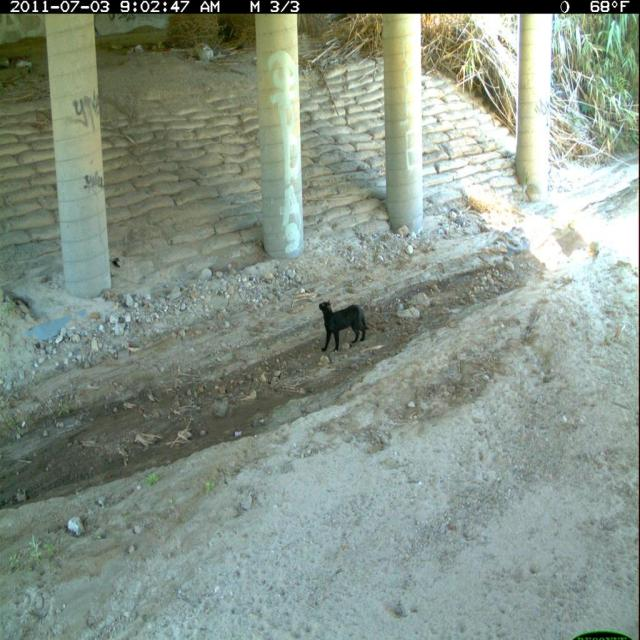cat: (317, 297, 373, 354)
